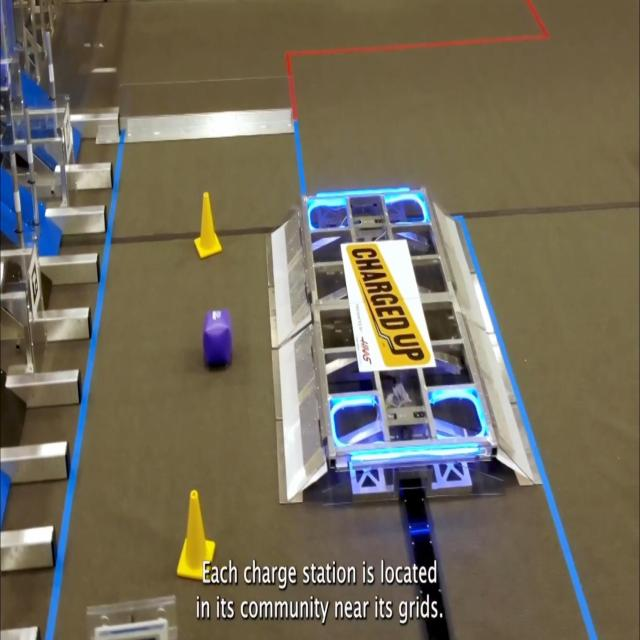frc_cone: (178, 487, 213, 578), (191, 187, 224, 261)
frc_cube: (200, 307, 233, 368)
